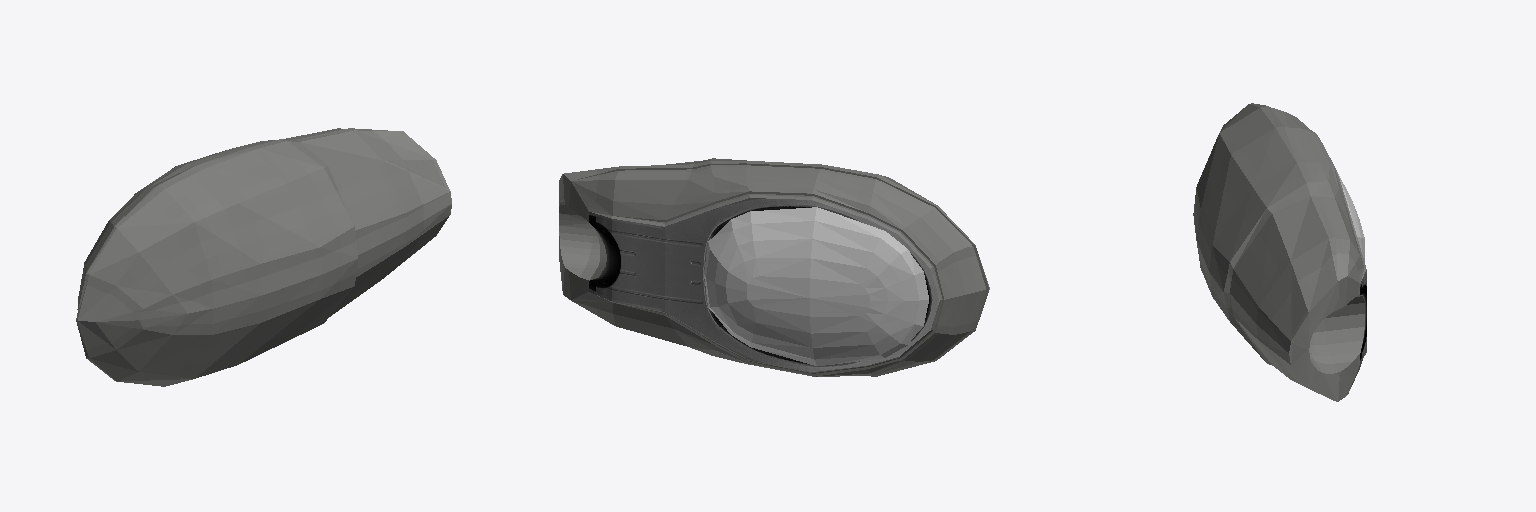
3 views of the same model, side by side, from view 1: azimuth 30°, elevation 25°; view 2: azimuth 150°, elevation 25°; view 3: azimuth 270°, elevation 25° (orthographic).
Visible parts, largest first — view 1: ARC_80; view 2: ARC_80, Glas; view 3: ARC_80.
Boxes of the visible parts, x1=… form: ARC_80: x1=76, y1=128, x2=451, y2=386; ARC_80: x1=559, y1=158, x2=989, y2=376; Glas: x1=704, y1=207, x2=928, y2=365; ARC_80: x1=1193, y1=103, x2=1366, y2=401.
Bounding box in the file's own units: 0.6699 × 0.3308 × 0.2505.
Materials: 3 (2 with a texture image).